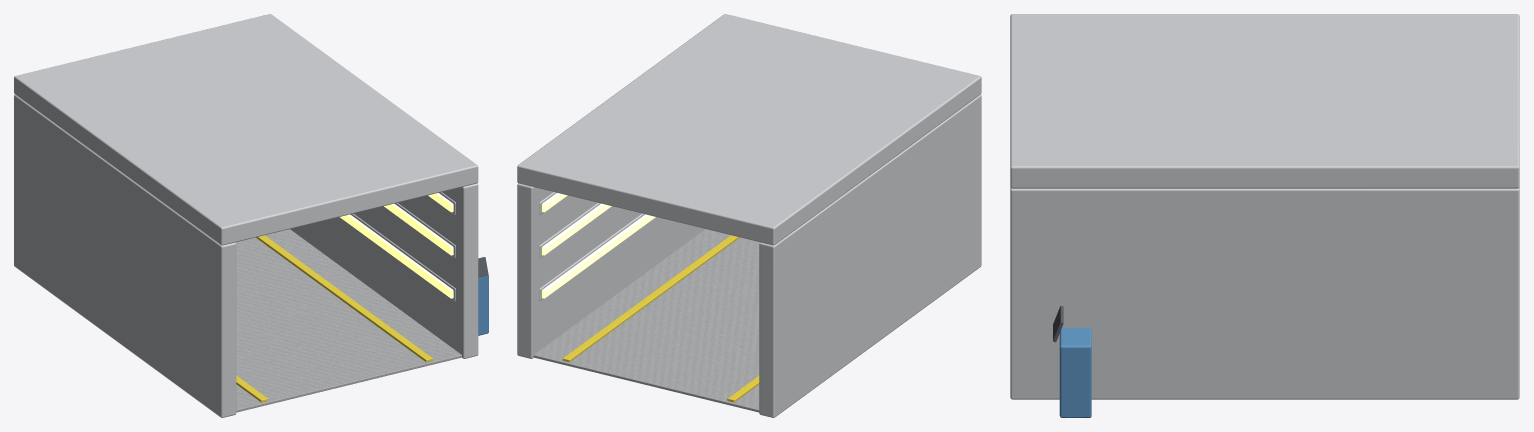
File: final-inspection-light-tunnel.glb
The picture shows the model from 3 angles, left to right: view 1: azimuth 30°, elevation 25°; view 2: azimuth 150°, elevation 25°; view 3: azimuth 270°, elevation 25°; orthographic projection. The views are drawn at different scales.
Parts seen in each view (by area): view 1: final-inspection-light-tunnel; view 2: final-inspection-light-tunnel; view 3: final-inspection-light-tunnel.
Part boxes in pixels (x1,y1,x2,y2): final-inspection-light-tunnel: (14,14,488,417); final-inspection-light-tunnel: (517,14,981,417); final-inspection-light-tunnel: (1010,14,1519,417).
Size of the model in its own units: 5.6 by 3.54 by 7.
Materials: 6 (1 with a texture image).
